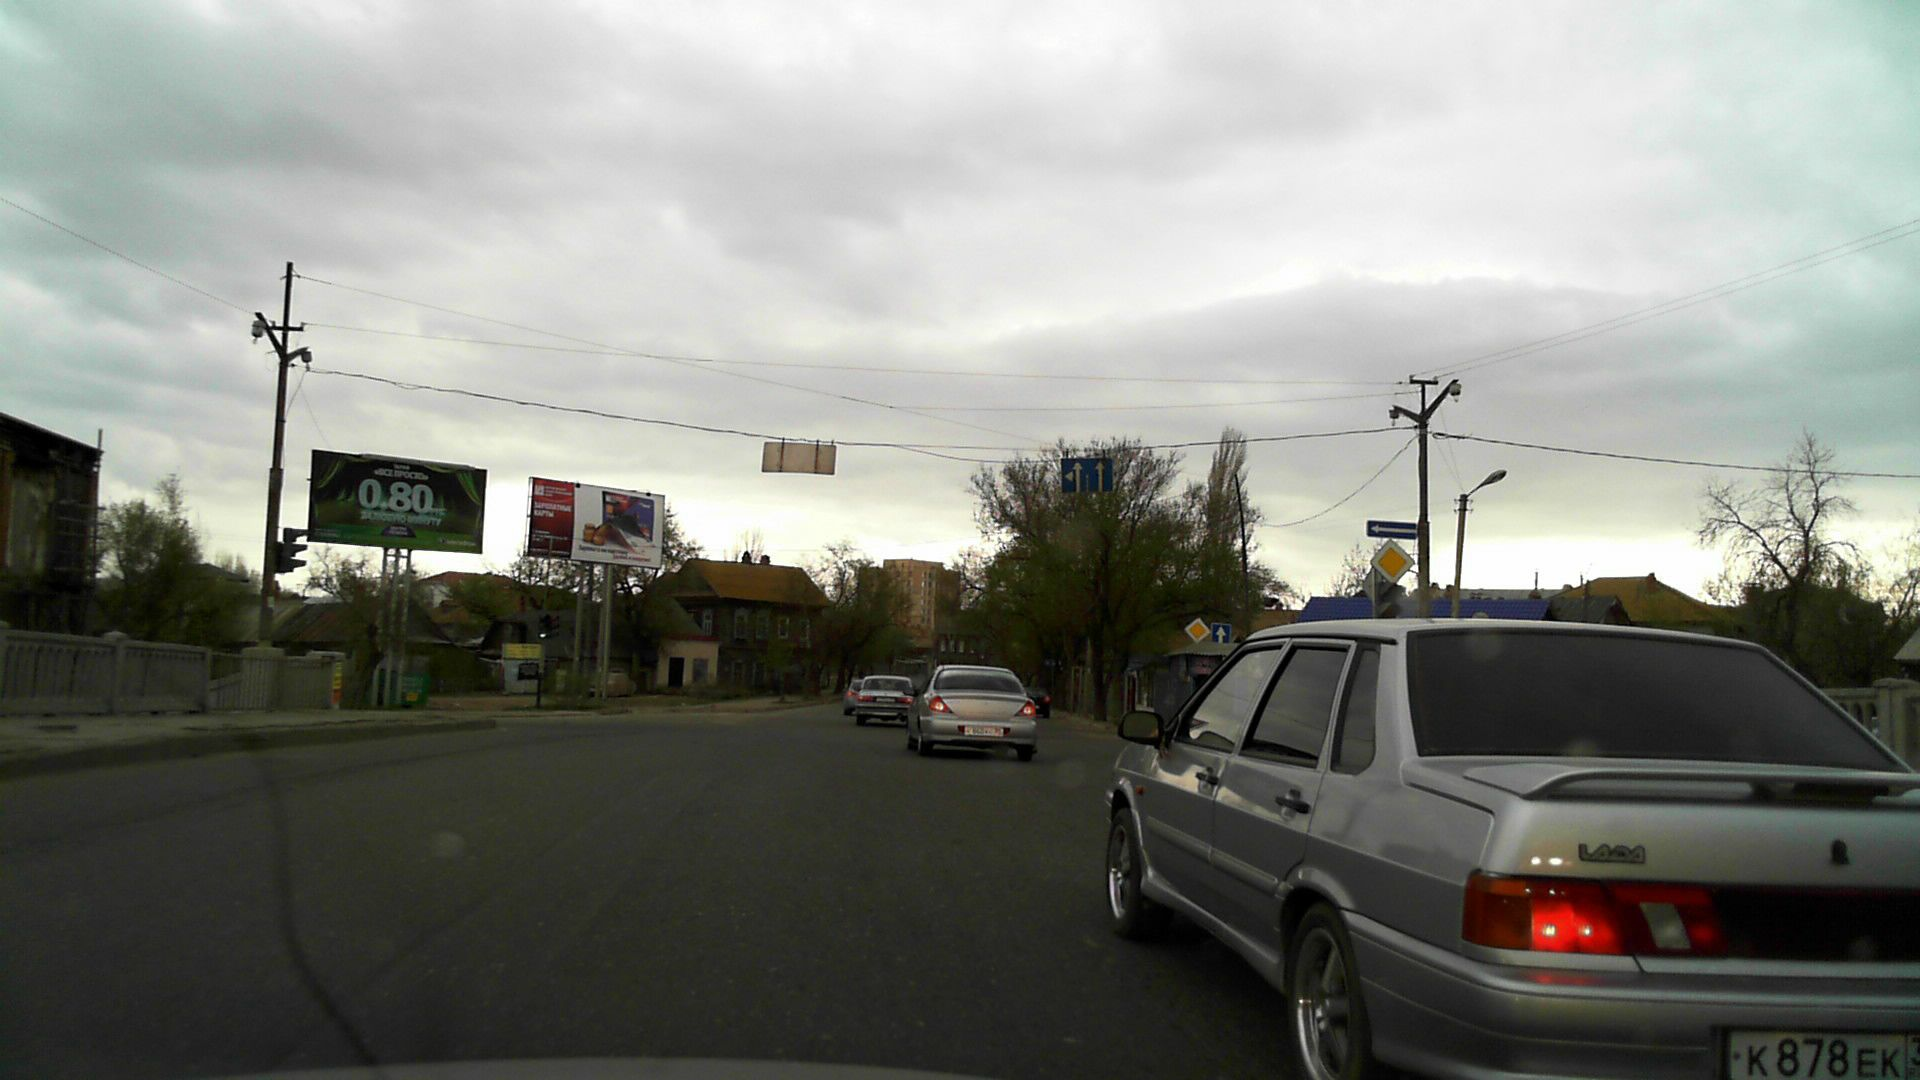One-Way Traffic: (1366, 520, 1418, 541)
